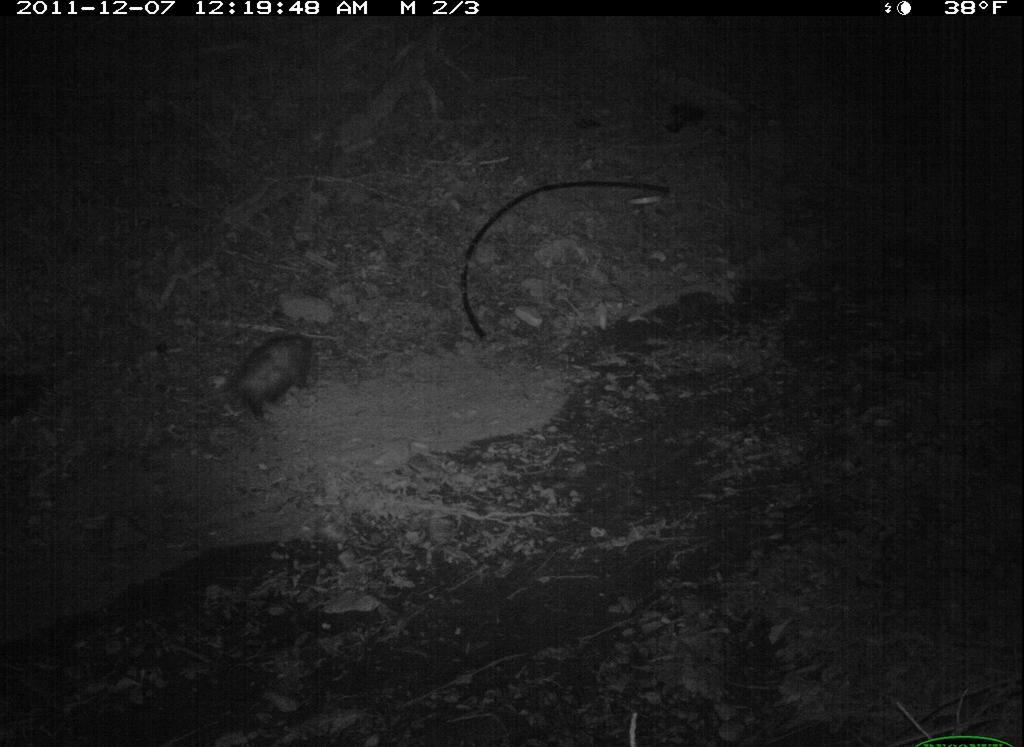opossum: (213, 312, 337, 438)
